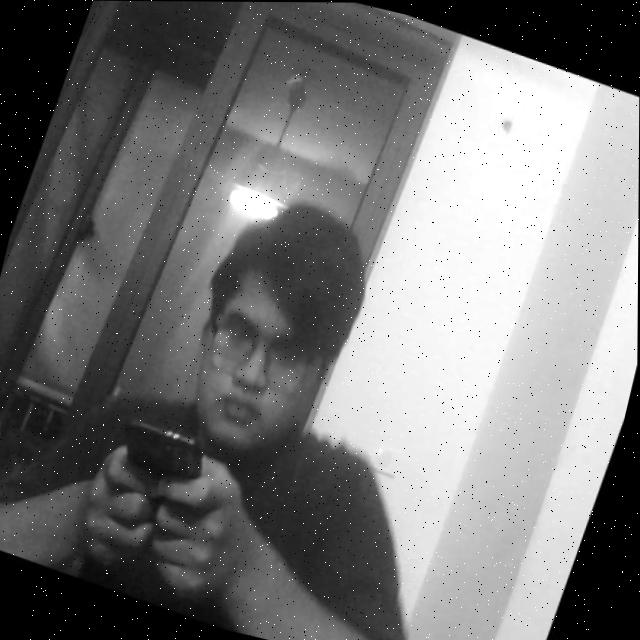phone: (79, 388, 244, 552)
